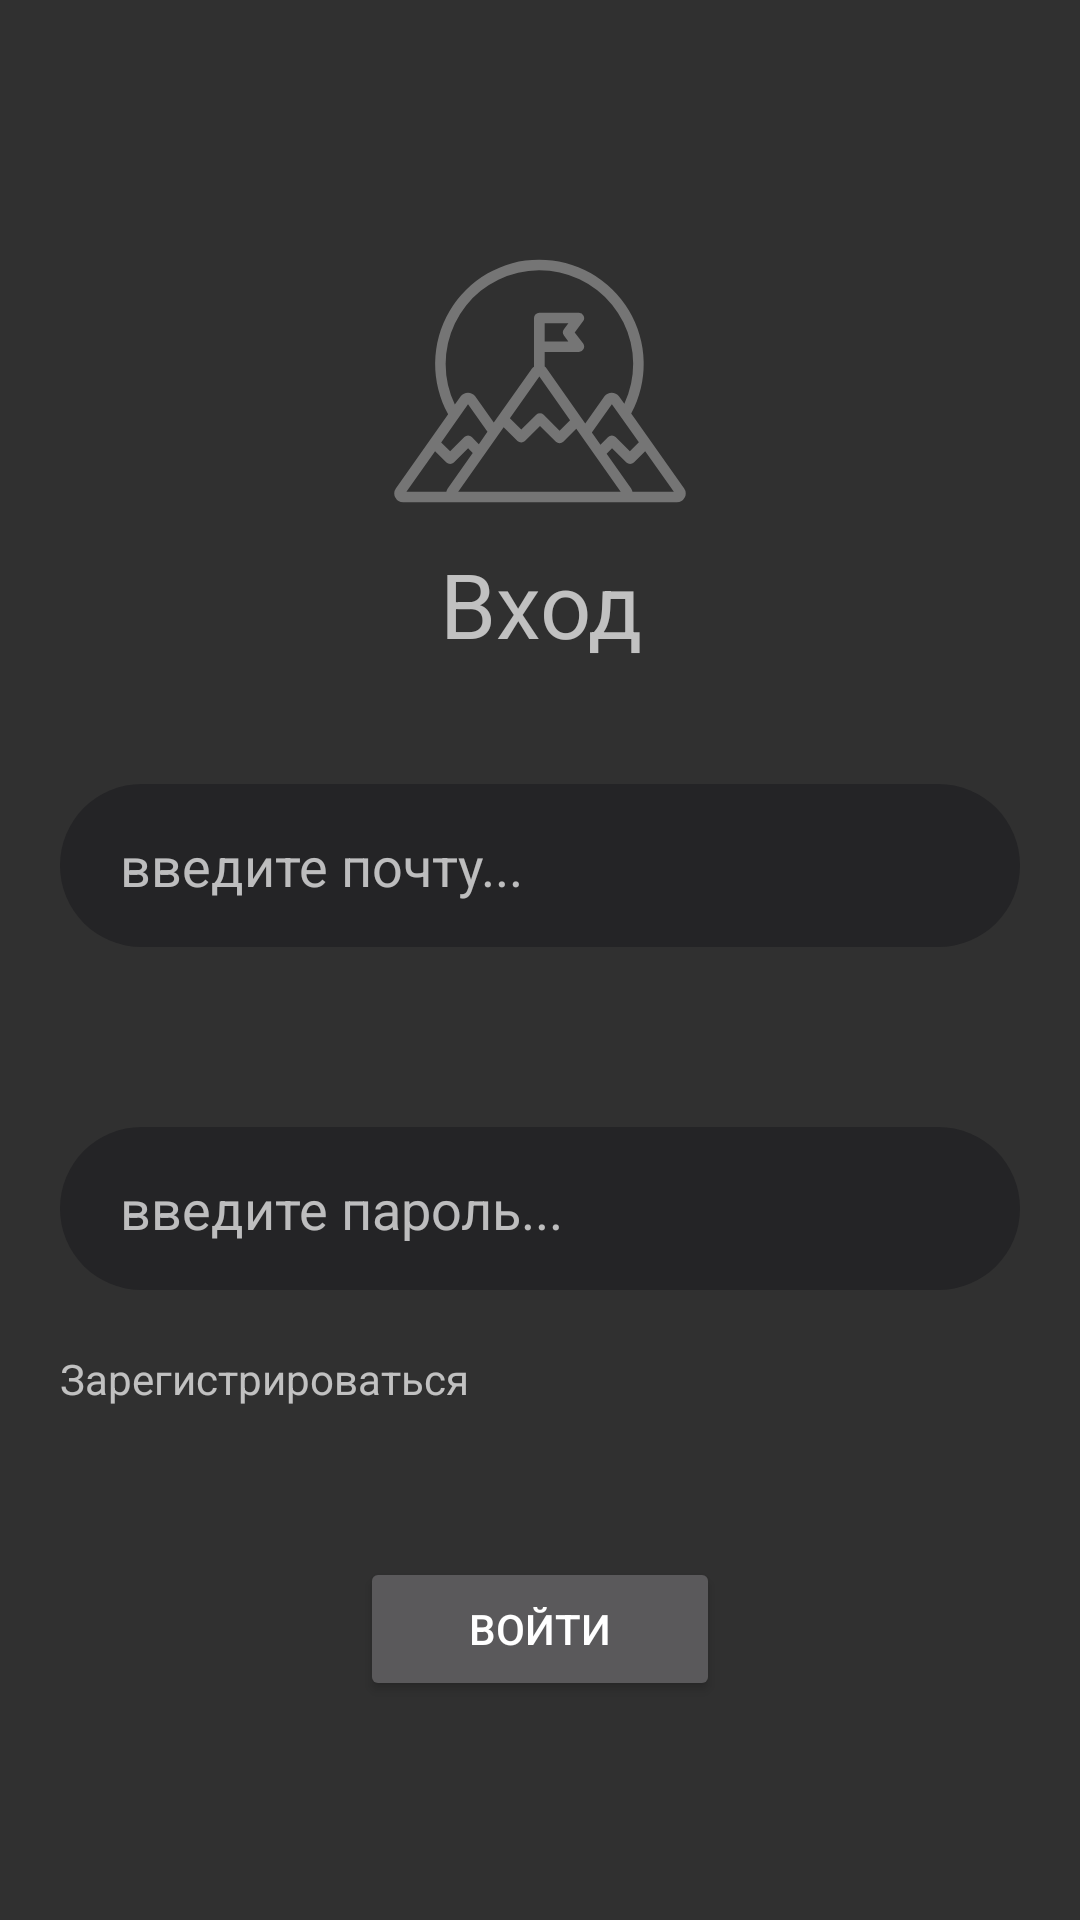

Where to tap for icons on this 1080w x 1920h app screen, as point (x, y):
challenge: point (540, 381)
